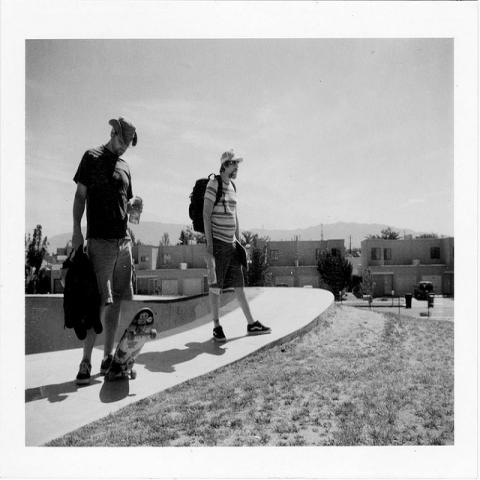car: (414, 280, 434, 300)
